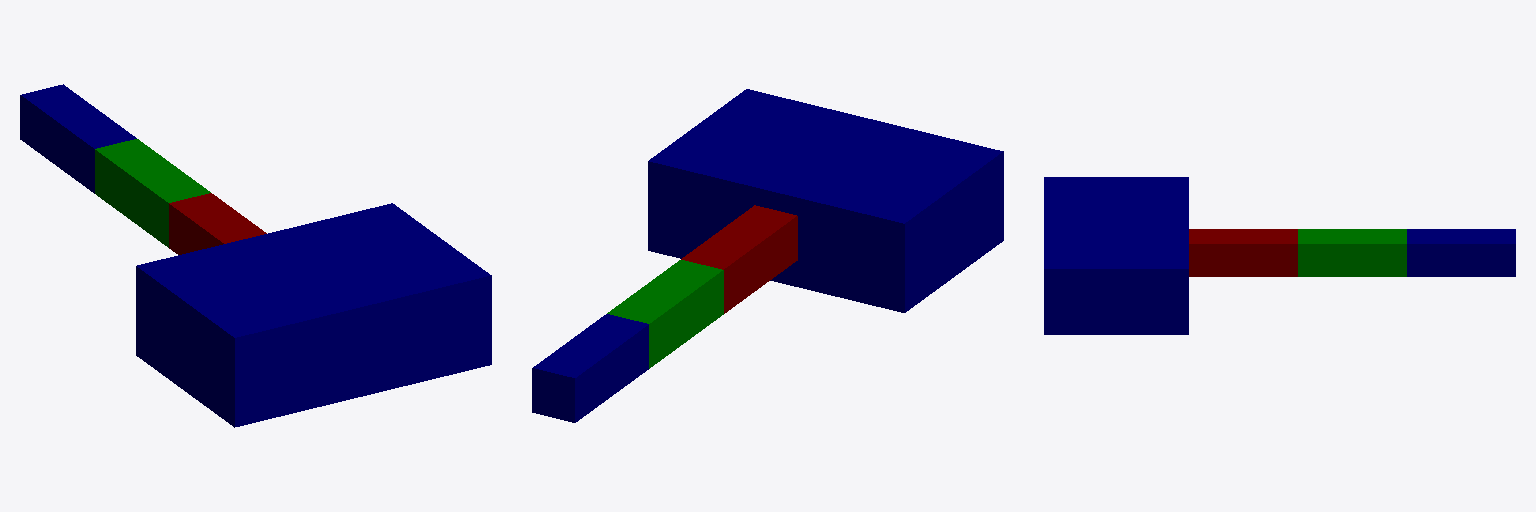
robot.urdf — my_hexapod:
<?xml version="1.0" ?>
<robot name="my_hexapod" >

    <!-- Propiedades -->

    <material name="color_base">
        <color rgba="0 0 0.5 1" />
    </material>

    <material name="color_red">
        <color rgba="0.5 0 0 1" />
    </material>

    <material name="color_green">
        <color rgba="0 0.5 0 1" />
    </material>

    <!-- Eslabon Vacío (Para que se mueva)-->
    <link name="base_footprint" />

    <!-- Eslabon Base -->
    <link name="base_link">
        <visual>
            <geometry>
                <box size="0.3 0.2 0.10" />
            </geometry>
            <origin xyz="0.0 0.0 0.0" rpy="0 0 0"/>
            <material name="color_base" />
        </visual>
    </link>

    <!-- Juntas para el movimiento -->

    <!-- Junta entre cuerpo vacío y cuerpo base-->
    <joint name="base_footprint_to_base_link_joint" type="fixed" >
        <parent link="base_footprint" />
        <child link="base_link" />
        <origin xyz="0 0 0.15" rpy="0 0 0" />
    </joint>

    <!-- Eslabones Normales -->
    
    <!-- Eslabón COXA -->
    <link name="coxa_p1_link">
        <visual>
            <geometry>
                <box size="0.05 0.15 0.05" />
            </geometry>
            <origin xyz="0.0 0.075 0" rpy="0 0 0"/>
            <material name="color_red" />
        </visual>
    </link>

    <!-- Eslabón FEMUR-->
    <link name="femur_p1_link">
        <visual>
            <geometry>
                <box size="0.05 0.15 0.05" />
            </geometry>
            <origin xyz="0.0 0.075 0.0" rpy="0 0 0"/>
            <material name="color_green" />
        </visual>
    </link>

    <!-- Eslabón TIBIA -->
    <link name="tibia_p1_link">
        <visual>
            <geometry>
                <box size="0.05 0.15 0.05" />
            </geometry>
            <origin xyz="0.0 0.075 0.0" rpy="0 0 0"/>
            <material name="color_base" />
        </visual>
    </link>

    <!-- Juntas para formar la pata-->

    <!-- Junta entre el cuerpo base y el coxa -->
    <joint name="base_link_to_coxa_p1_link_joint" type="revolute">
        <parent link="base_link" />
        <child link="coxa_p1_link" />
        <origin xyz="0.0 0.1 0.005" rpy="0 0 0" />
        <axis xyz="0 0 1" />
        <limit lower="-1.57" upper="1.57" effort="0.176" velocity="0.166" />
    </joint>

    <!-- Junta entre el coxa y el femur -->
    <joint name="coxa_p1_link_to_femur_p1_link_joint" type="revolute">
        <parent link="coxa_p1_link" />
        <child link="femur_p1_link" />
        <origin xyz="0.0 0.15 0.0" rpy="0 0 0" />
        <axis xyz="1 0 0" />
        <limit lower="-1.57" upper="1.57" effort="0.176" velocity="0.166" />
    </joint>

    <!-- Junta entre el femur y la tibia -->
    <joint name="femur_p1_link_to_tibia_p1_link_joint" type="revolute">
        <parent link="femur_p1_link" />
        <child link="tibia_p1_link" />
        <origin xyz="0.0 0.15 0.0" rpy="0 0 0" />
        <axis xyz="1 0 0" />
        <limit lower="-1.57" upper="1.57" effort="0.176" velocity="0.166" />
    </joint>

</robot>

--- What the picture shows (computed from the rendered views, not written in the file) ---
3 views of the same robot in one strip: view 1: azimuth 30°, elevation 25°; view 2: azimuth 150°, elevation 25°; view 3: azimuth 270°, elevation 25° (orthographic).
Robot: my_hexapod — 5 links, 4 joints (3 revolute, 1 fixed); root link base_footprint; default pose: every joint at zero.
Visible links, largest first — view 1: base_link, tibia_p1_link, femur_p1_link, coxa_p1_link; view 2: base_link, tibia_p1_link, femur_p1_link, coxa_p1_link; view 3: base_link, coxa_p1_link, femur_p1_link, tibia_p1_link.
Link boxes in pixels (bbox=[...]): base_link: bbox=[136, 203, 491, 427]; tibia_p1_link: bbox=[20, 84, 136, 193]; femur_p1_link: bbox=[95, 139, 210, 247]; coxa_p1_link: bbox=[169, 193, 266, 254]; base_link: bbox=[648, 89, 1003, 312]; tibia_p1_link: bbox=[532, 314, 648, 422]; femur_p1_link: bbox=[607, 260, 723, 368]; coxa_p1_link: bbox=[681, 205, 797, 313]; base_link: bbox=[1044, 177, 1188, 334]; coxa_p1_link: bbox=[1189, 229, 1297, 276]; femur_p1_link: bbox=[1298, 229, 1406, 276]; tibia_p1_link: bbox=[1407, 229, 1515, 276].
Size in the robot's own frame: 0.3 by 0.65 by 0.1 metres.
Geometry: primitives only (box / cylinder / sphere), no mesh files.